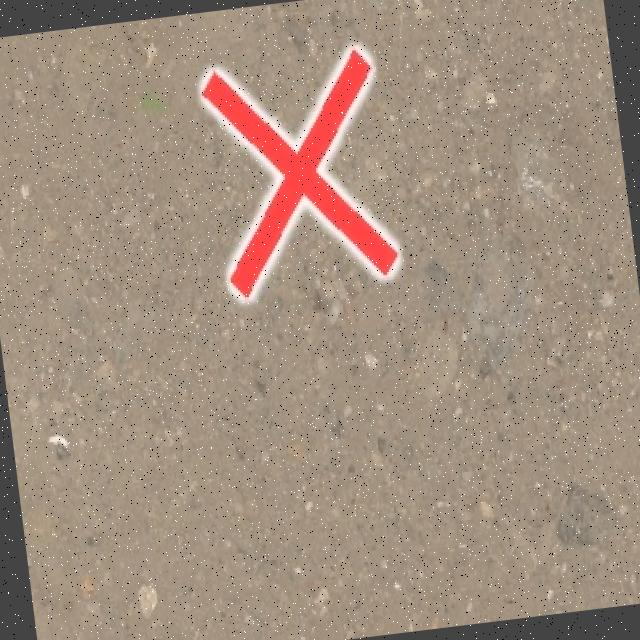x_marker: (200, 46, 398, 298)
